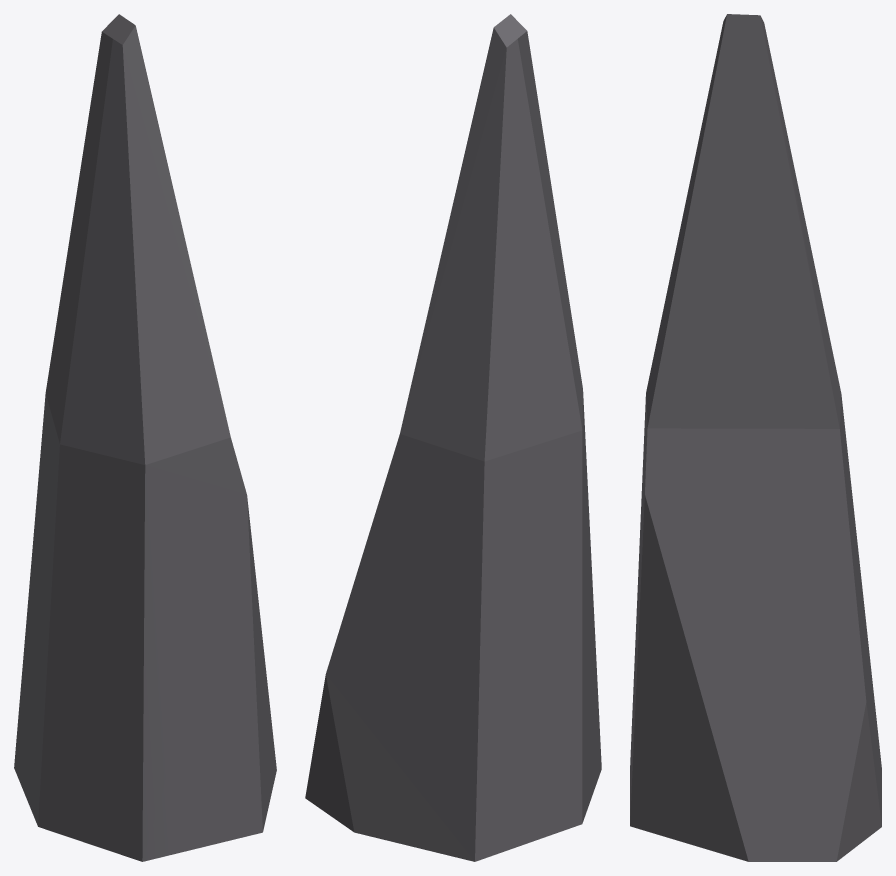
Rendered from Rock_Sharp_s_03.fbx.
The picture shows the model from 3 angles, left to right: view 1: azimuth 30°, elevation 25°; view 2: azimuth 150°, elevation 25°; view 3: azimuth 270°, elevation 25°; orthographic projection.
Visible parts, largest first — view 1: Rock_Sharp_s_03; view 2: Rock_Sharp_s_03; view 3: Rock_Sharp_s_03.
Part boxes in pixels (left/top/right/bottom): Rock_Sharp_s_03: left=14, top=14, right=276, bottom=861; Rock_Sharp_s_03: left=305, top=14, right=601, bottom=861; Rock_Sharp_s_03: left=630, top=14, right=881, bottom=861.
Size of the model in its own units: 20.17 by 64.17 by 18.9.
